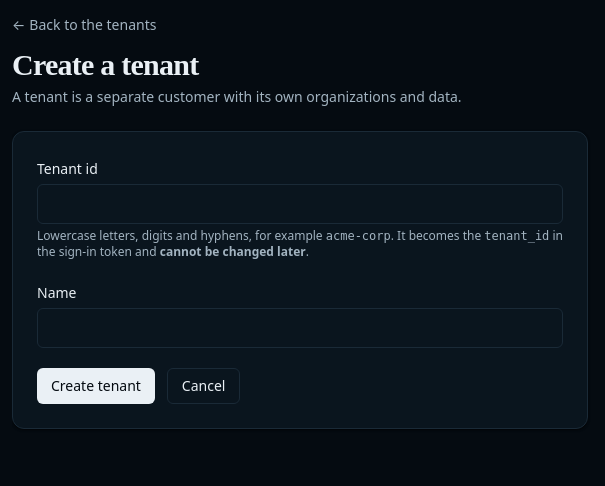
Test: CreateTenantPage › explains what is wrong without sending anything
This screenshot has width=605, height=486.
Click the button "Create tenant" at (96, 386), box [37,368,155,404]
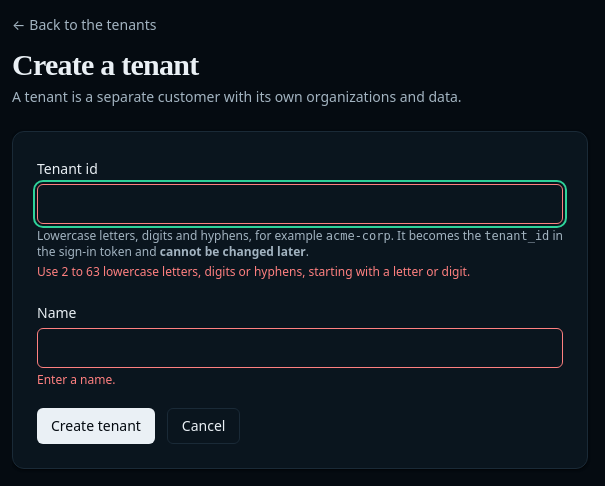
expect the text "Use 2 to 63 lowercase letters, digits or hyphens" is shown: met, box [37,263,470,280]
expect the text "Enter a name." is shown: met, box [37,371,116,388]
